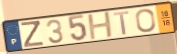3: (46, 18, 65, 44)
5: (66, 13, 89, 43)
H: (86, 11, 115, 42)
O: (134, 8, 157, 34)
T: (112, 10, 131, 36)
Z: (20, 20, 45, 49)
